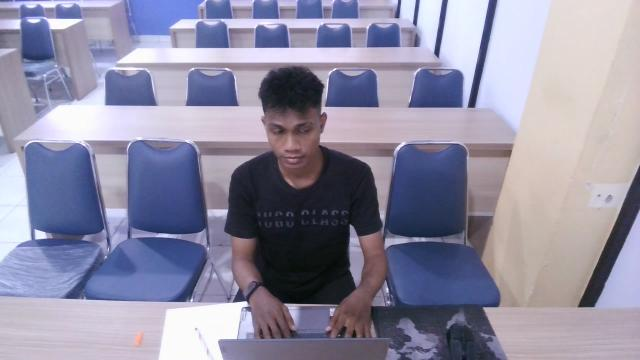Looking_Around: (221, 59, 386, 266)
